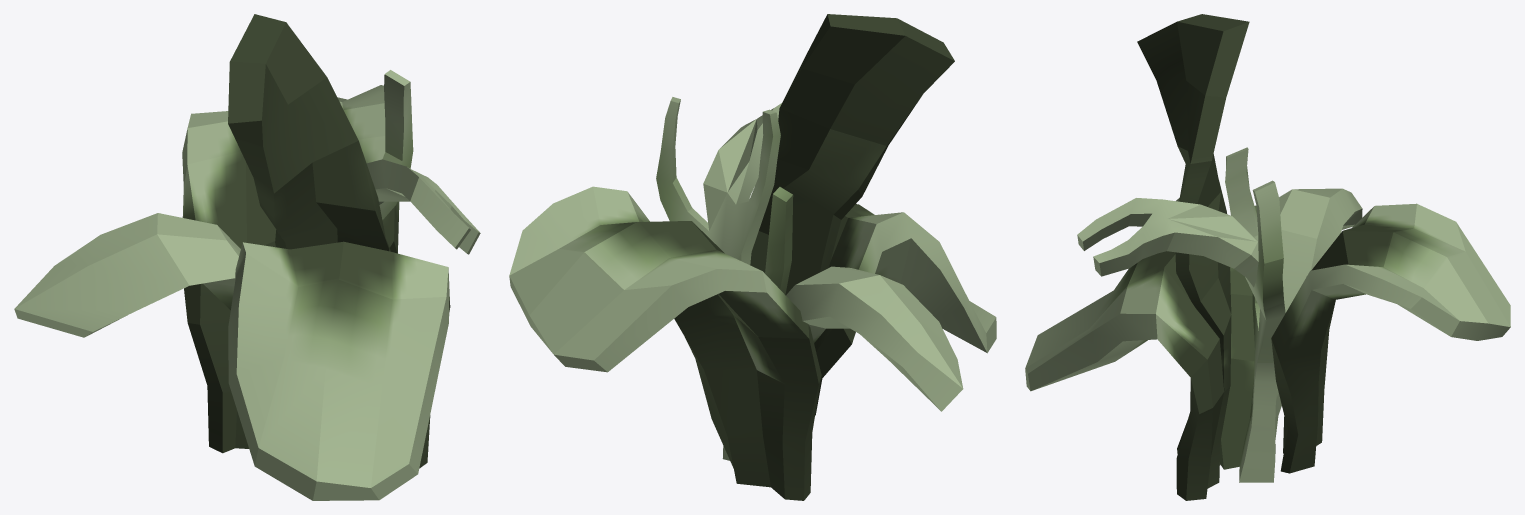
The model's file is EA_Swamp_Leaf_01c.glb.
3 renders of one model, left to right at view 1: azimuth 30°, elevation 25°; view 2: azimuth 150°, elevation 25°; view 3: azimuth 270°, elevation 25°, orthographic. The views are drawn at different scales.
Parts seen in each view (by area): view 1: EA_Swamp_Leaf_01c; view 2: EA_Swamp_Leaf_01c; view 3: EA_Swamp_Leaf_01c.
Part boxes in pixels (x1,y1,x2,y2): EA_Swamp_Leaf_01c: (14, 14, 480, 500); EA_Swamp_Leaf_01c: (509, 14, 996, 500); EA_Swamp_Leaf_01c: (1025, 14, 1510, 500).
Bounding box in the file's own units: 1.39 × 1.48 × 1.56.
1 material, 1 textured.
